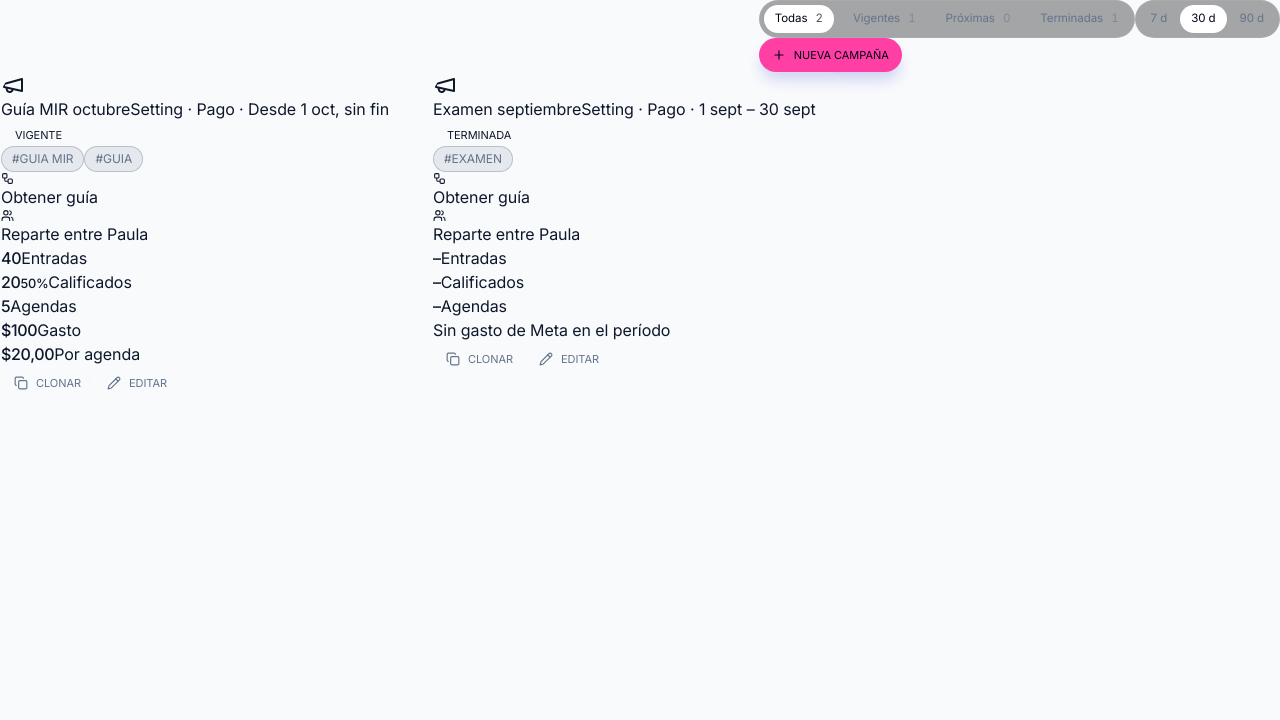
Campañas › no manda una campaña sin palabras clave
Check: the button "Guía MIR octubre" is shown, box [1,97,130,121]
Click the button "Nueva campaña" at x=830, y=55, box [759,38,902,72]
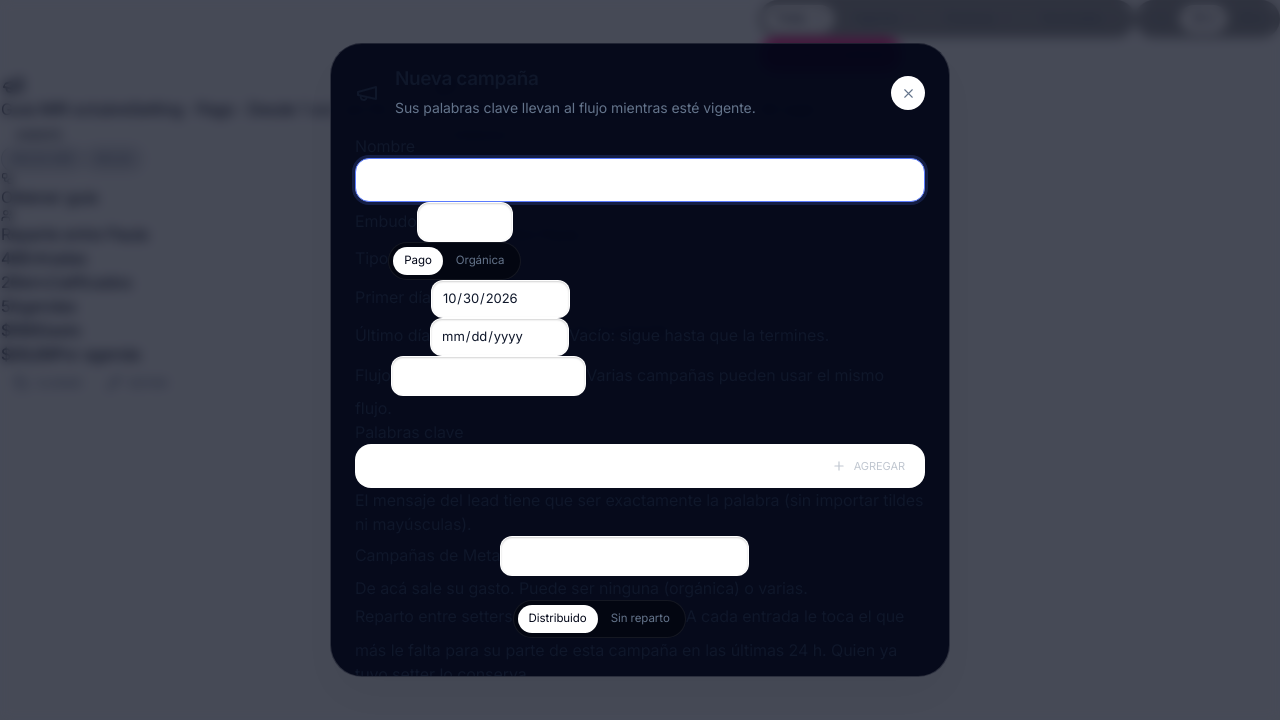
Type "Sin palabras" into the field named "Nombre" at x=640, y=180, box [355,158,925,202]
(page scrolled)
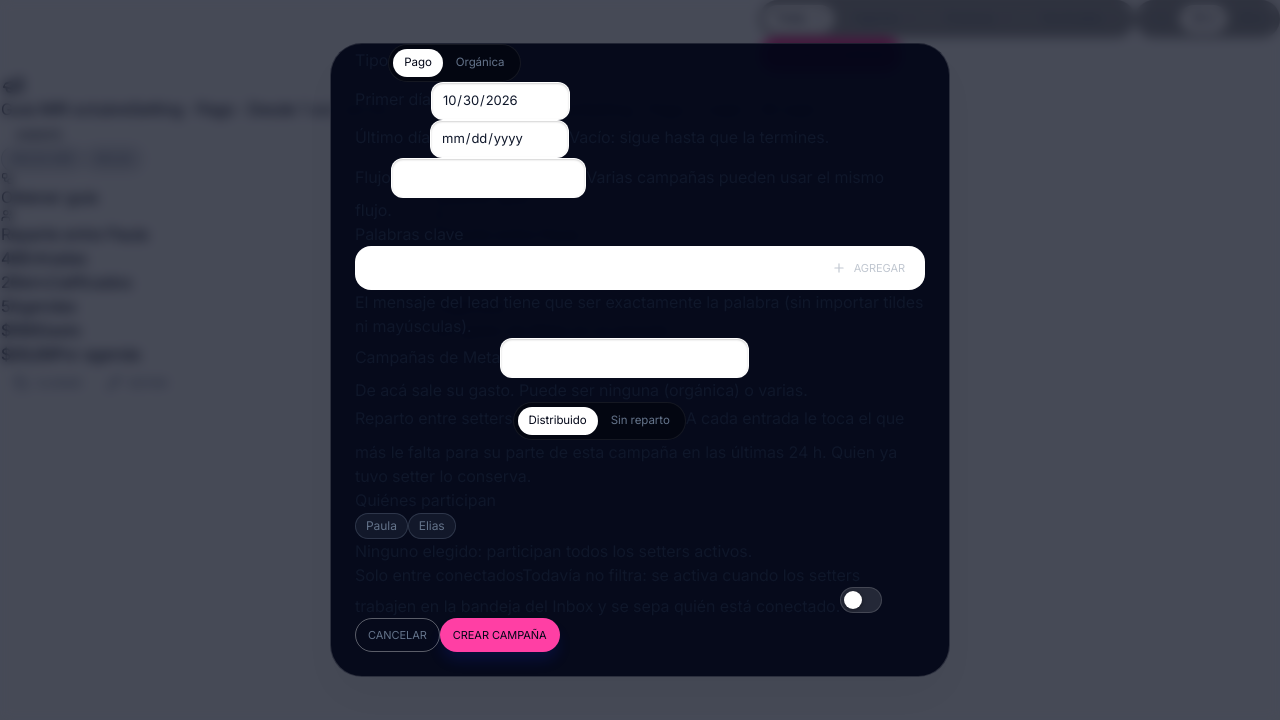
Click the button "Crear campaña" at x=500, y=635, box [440,618,560,652]
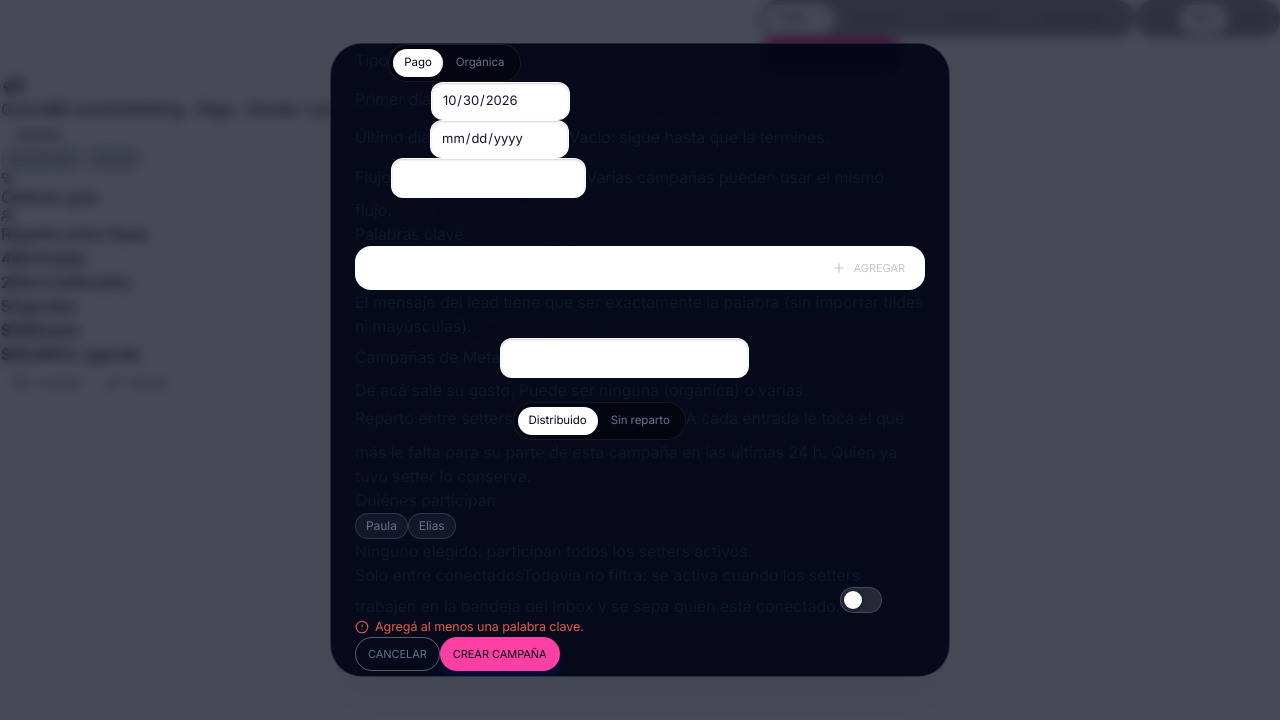
Check: the text "Agregá al menos una palabra clave." is shown, box [355,619,584,634]
